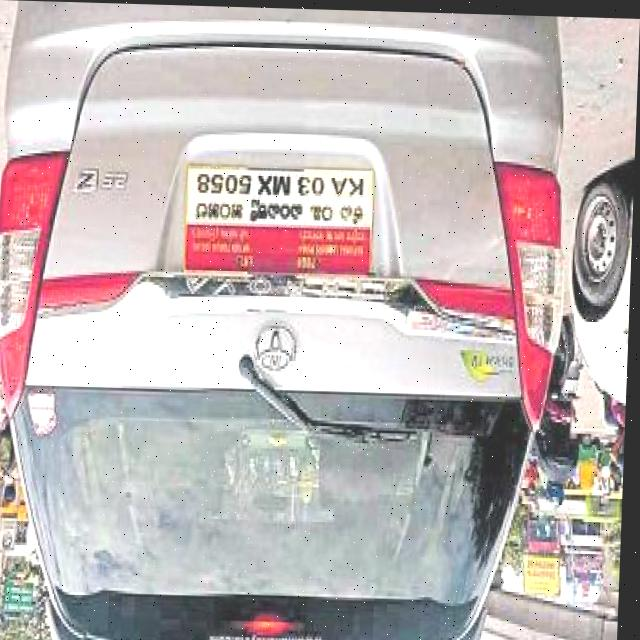plate: (185, 163, 378, 271)
